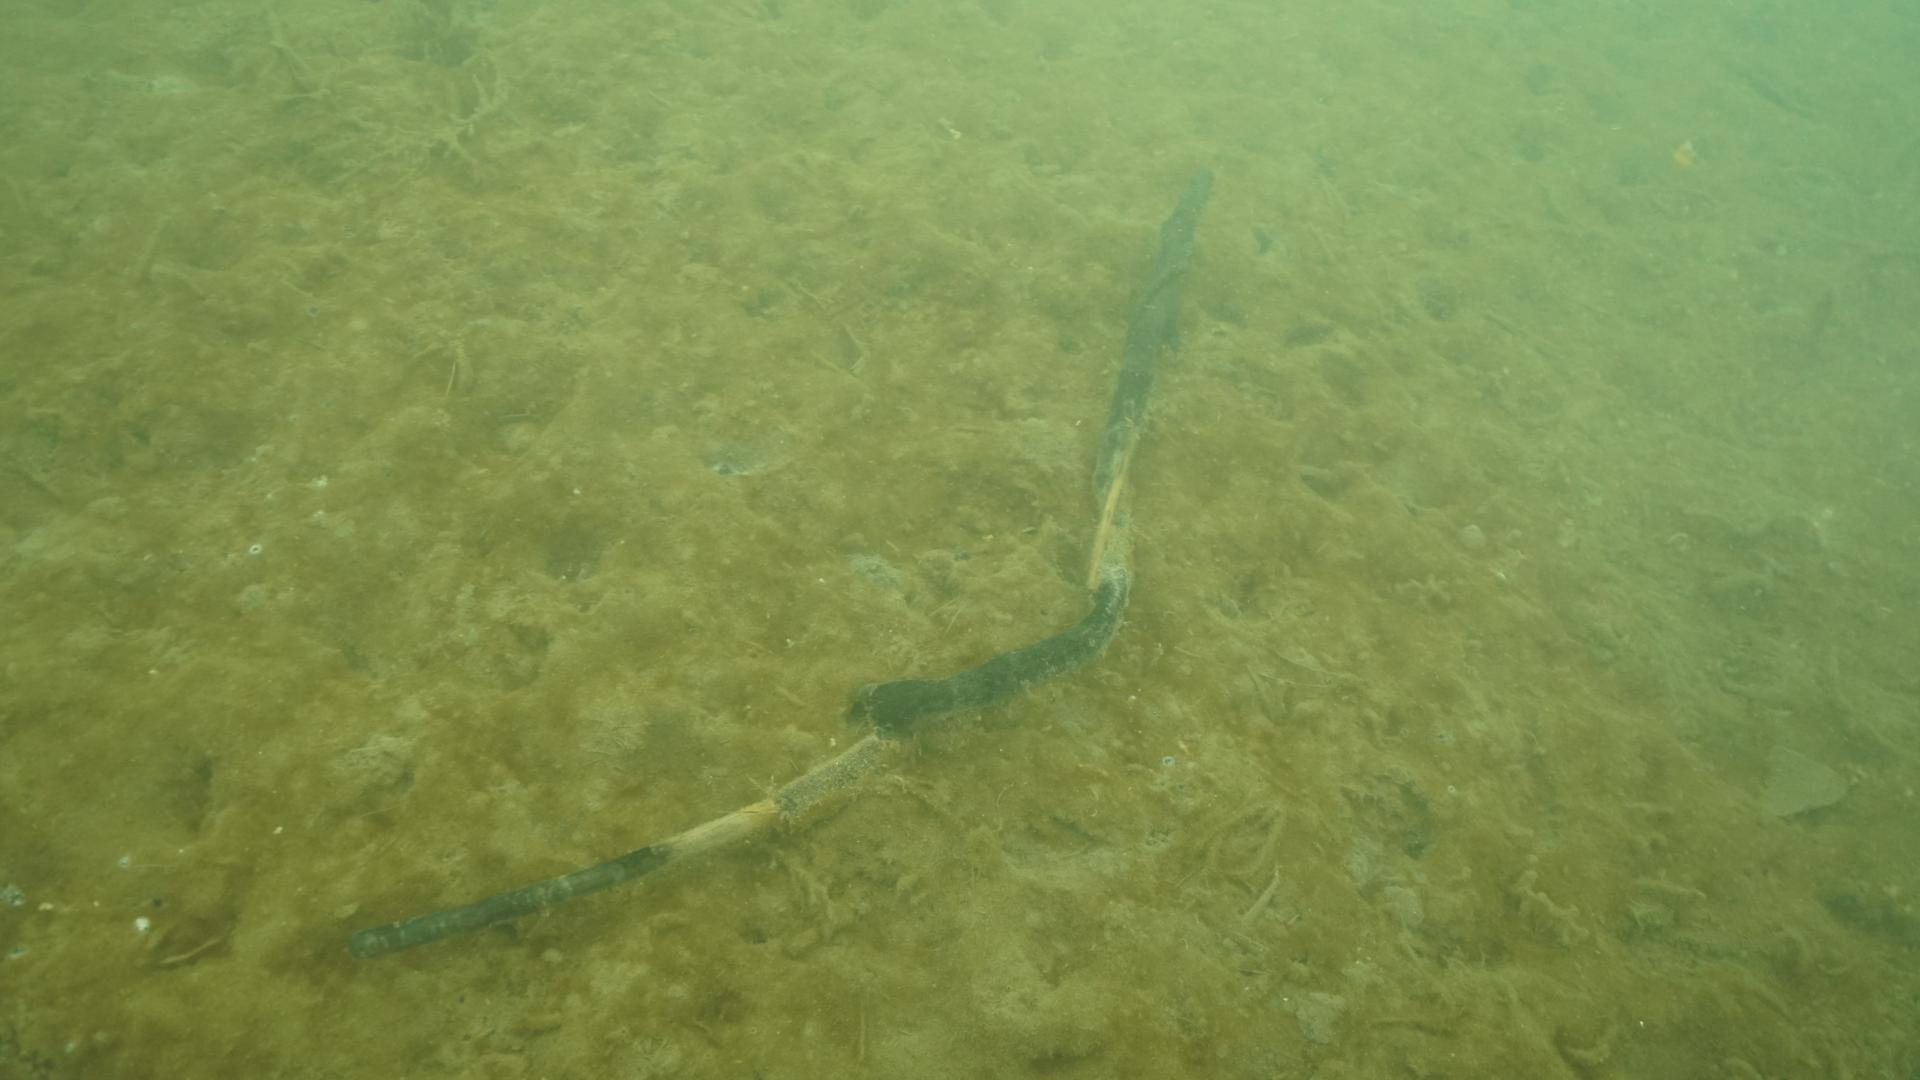wood: (349, 164, 1211, 960)
